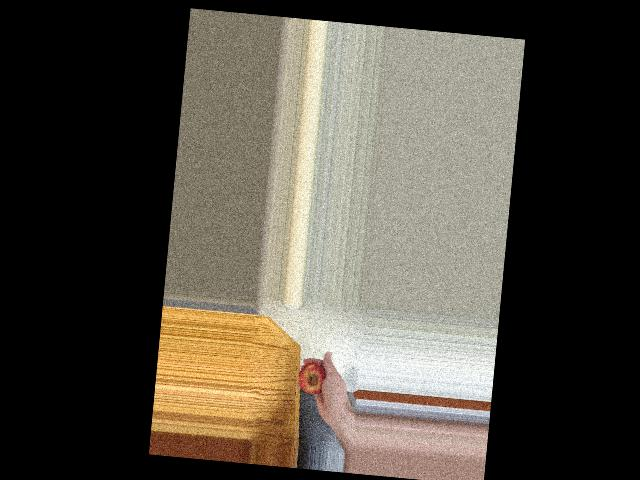apple: (296, 360, 329, 398)
